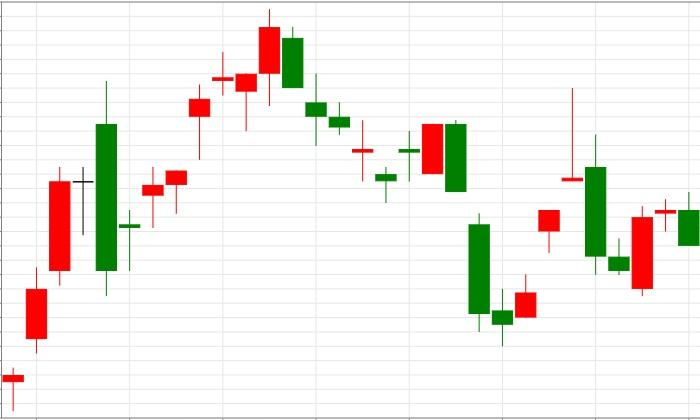bullish_engulfing_rise: (562, 88, 654, 296)
